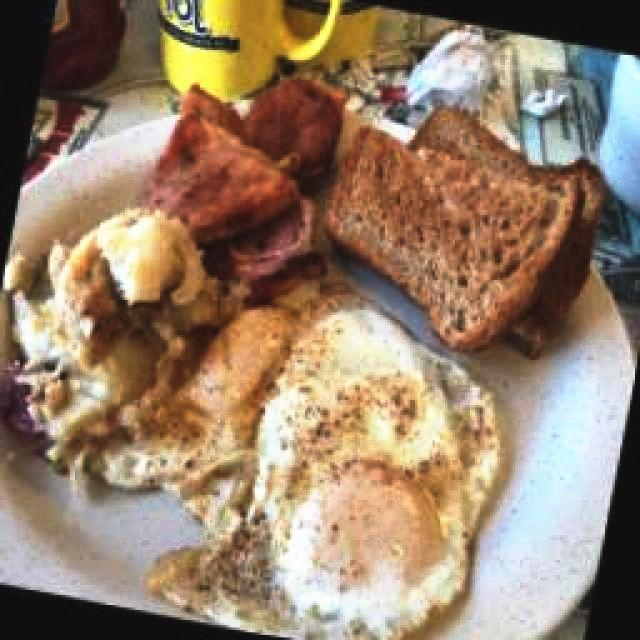fried_eggs: (149, 292, 502, 640)
